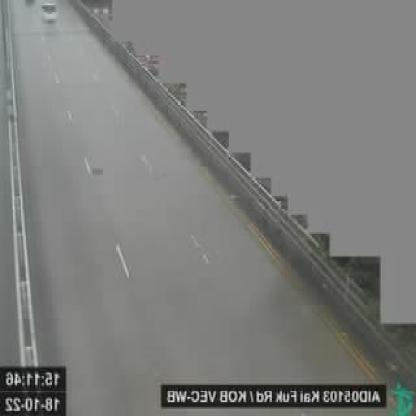Car: (38, 0, 58, 24)
